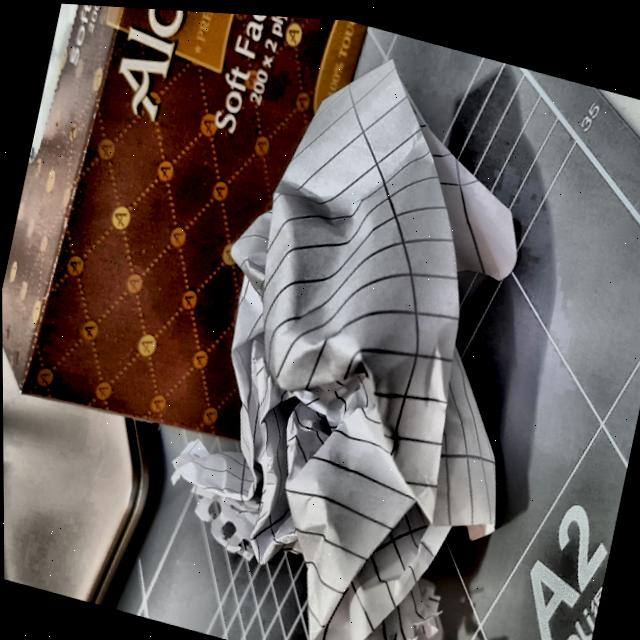paper: (143, 26, 589, 640)
